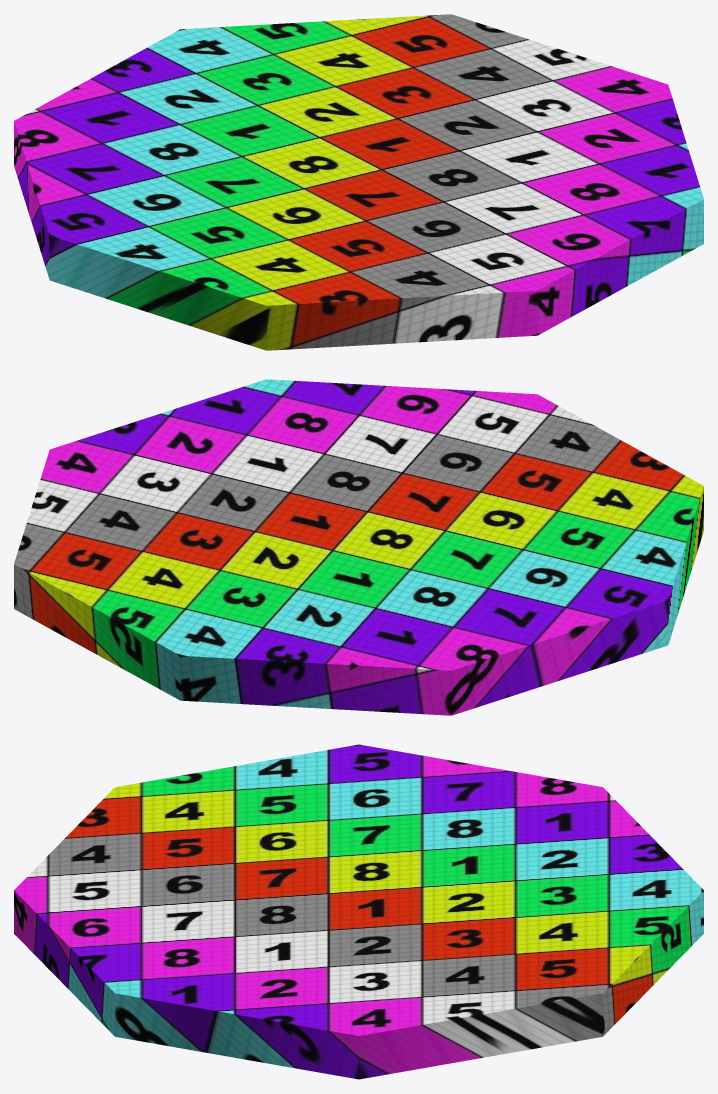
The picture shows the model from 3 angles, top to bottom: view 1: azimuth 30°, elevation 25°; view 2: azimuth 150°, elevation 25°; view 3: azimuth 270°, elevation 25°; orthographic projection. The views are drawn at different scales.
Parts seen in each view (by area): view 1: pipe; view 2: pipe; view 3: pipe.
Part boxes in pixels (bbox=[...]): pipe: bbox=[14, 14, 703, 350]; pipe: bbox=[14, 379, 703, 715]; pipe: bbox=[14, 744, 703, 1079].
Size of the model in its own units: 0.144 by 0.01 by 0.144.
